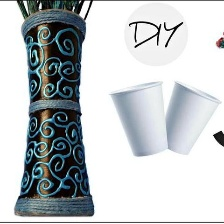glass: (103, 78, 171, 163), (158, 75, 223, 161)
